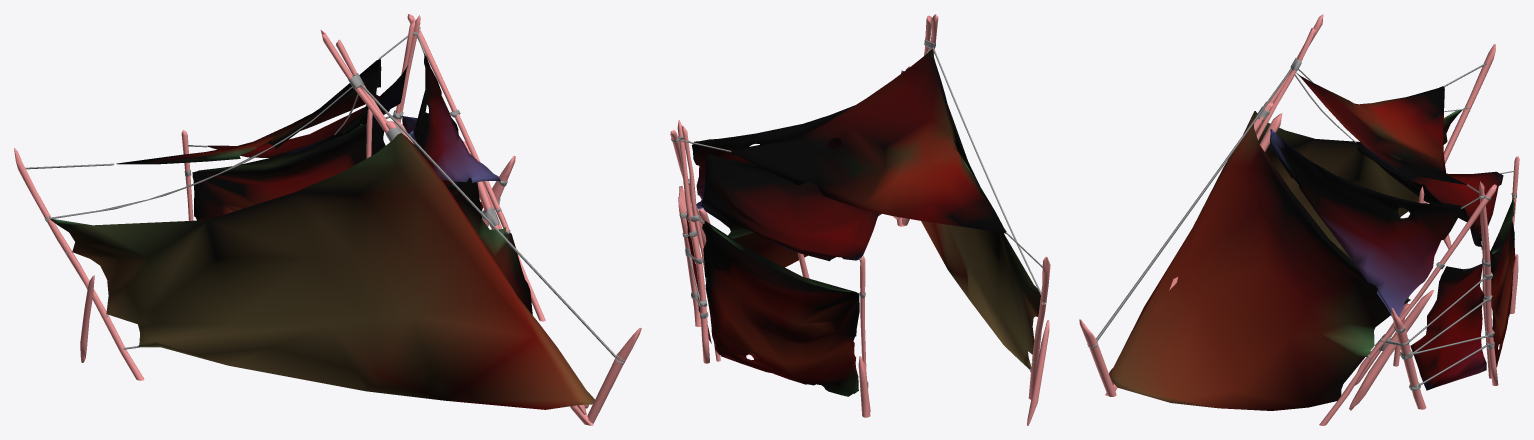
The model's file is tent_generic_vilage_D_01.gltf.
3 renders of one model, left to right at view 1: azimuth 30°, elevation 25°; view 2: azimuth 150°, elevation 25°; view 3: azimuth 270°, elevation 25°, orthographic. The views are drawn at different scales.
Parts seen in each view (by area): view 1: tent_generic_vilage_D_01; view 2: tent_generic_vilage_D_01; view 3: tent_generic_vilage_D_01.
Part boxes in pixels (x1,y1,x2,y2): tent_generic_vilage_D_01: [14, 14, 641, 425]; tent_generic_vilage_D_01: [670, 14, 1050, 425]; tent_generic_vilage_D_01: [1079, 14, 1519, 425].
Size of the model in its own units: 6.88 by 5.08 by 6.46.
